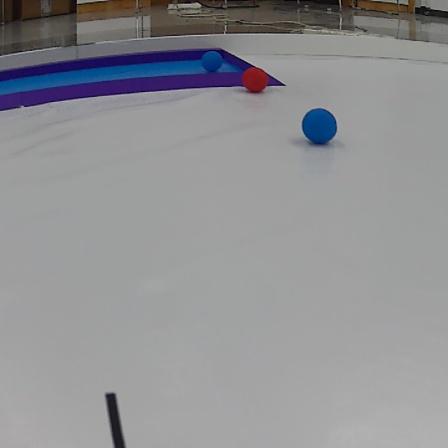blue: (301, 100, 337, 148), (198, 47, 221, 72)
blue_aim: (2, 45, 289, 110)
red: (241, 61, 271, 96)
